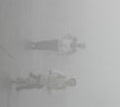person: (13, 67, 76, 92), (26, 35, 88, 55)
